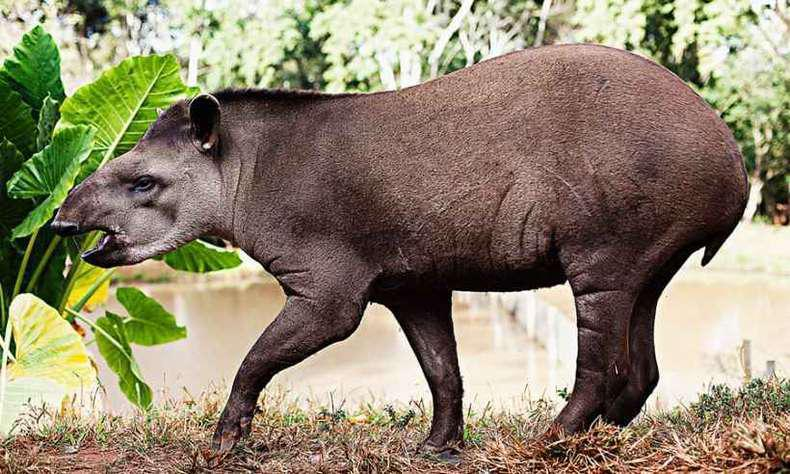Anta: (46, 33, 762, 457)
